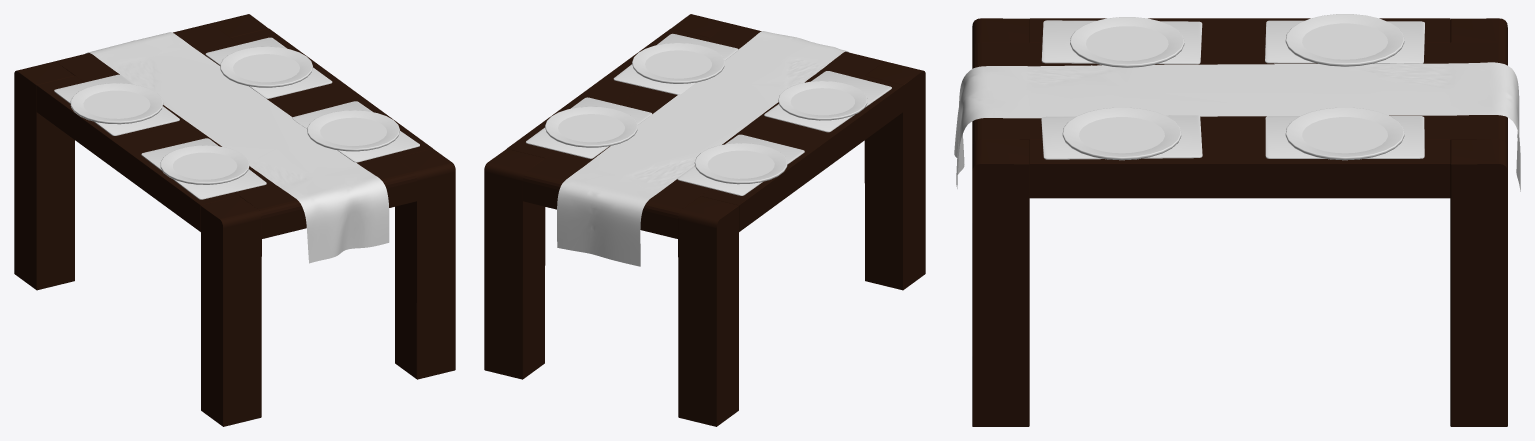
File: Dining Table.FBX
The picture shows the model from 3 angles, left to right: view 1: azimuth 30°, elevation 25°; view 2: azimuth 150°, elevation 25°; view 3: azimuth 270°, elevation 25°; orthographic projection. The views are drawn at different scales.
Visible parts, largest first — view 1: TableCLoth, TableTop, TableLeg02, TableLeg00, TableLeg01, Plate00, Plate01, Plate02, Plate03, Placemat02, Placemat03, Placemat01 (+2 smaller); view 2: TableCLoth, TableTop, TableLeg01, TableLeg03, TableLeg02, Plate01, Plate02, Plate00, Plate03, Placemat02, Placemat03, Placemat01 (+2 smaller); view 3: TableTop, TableCLoth, TableLeg00, TableLeg03, Plate01, Plate00, Plate02, Plate03, Placemat02, Placemat00, Placemat01, Placemat03 (+2 smaller).
Boxes of the visible parts, x1,y1,x2,y2 form: TableCLoth: [85, 32, 389, 263]; TableTop: [36, 23, 432, 238]; TableLeg02: [201, 196, 261, 426]; TableLeg00: [395, 149, 455, 379]; TableLeg01: [14, 61, 74, 290]; Plate00: [307, 110, 399, 151]; Plate01: [220, 46, 312, 87]; Plate02: [70, 83, 163, 124]; Plate03: [160, 145, 249, 184]; Placemat02: [141, 138, 266, 199]; Placemat03: [54, 74, 179, 135]; Placemat01: [205, 37, 332, 98]; TableCLoth: [557, 31, 848, 266]; TableTop: [507, 23, 903, 238]; TableLeg01: [678, 196, 738, 426]; TableLeg03: [484, 149, 545, 379]; TableLeg02: [864, 61, 925, 290]; Plate01: [545, 106, 637, 147]; Plate02: [694, 143, 787, 184]; Plate00: [632, 43, 724, 83]; Plate03: [778, 81, 867, 120]; Placemat02: [764, 71, 891, 132]; Placemat03: [677, 134, 804, 195]; Placemat01: [526, 97, 651, 158]; TableTop: [972, 18, 1507, 198]; TableCLoth: [954, 62, 1520, 191]; TableLeg00: [972, 139, 1029, 426]; TableLeg03: [1450, 139, 1507, 426]; Plate01: [1285, 107, 1404, 160]; Plate00: [1062, 107, 1181, 160]; Plate02: [1285, 14, 1404, 66]; Plate03: [1070, 17, 1184, 67]; Placemat02: [1041, 20, 1202, 64]; Placemat00: [1041, 115, 1202, 159]; Placemat01: [1265, 116, 1424, 158]; Placemat03: [1265, 20, 1424, 63].
Bounding box in the file's own units: 35.55 × 30.38 × 58.3.
